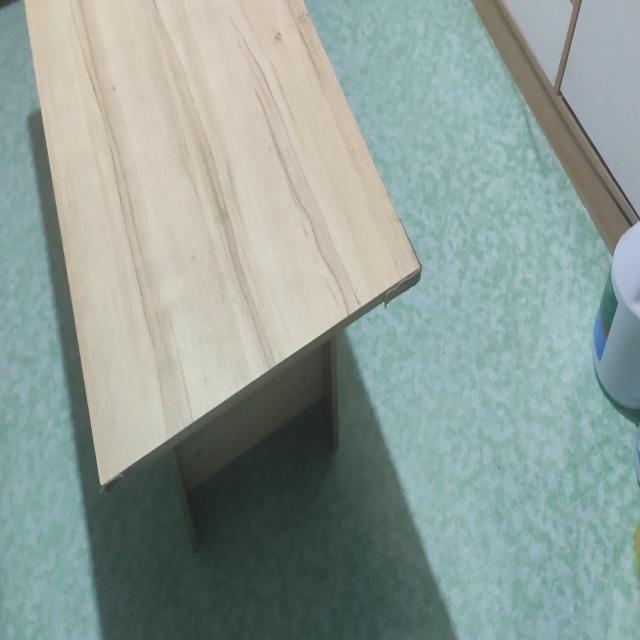table: (17, 0, 421, 497)
